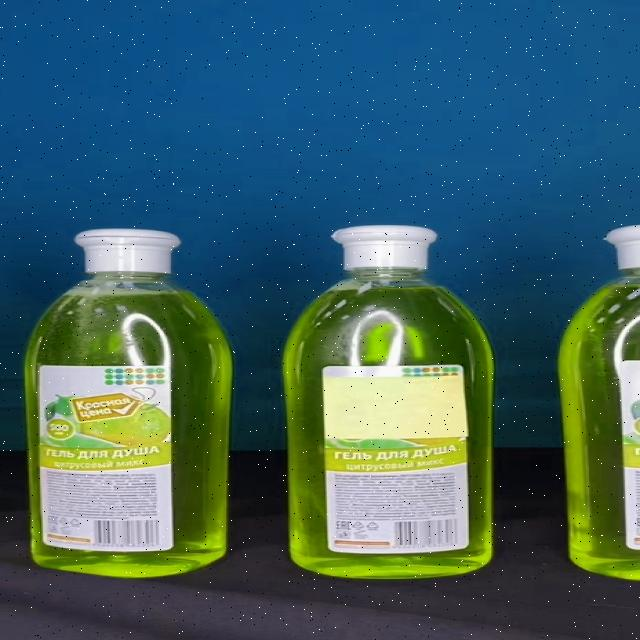Bottle: (282, 226, 492, 579), (24, 229, 233, 578)
Cap: (74, 229, 181, 273), (332, 225, 438, 269)
